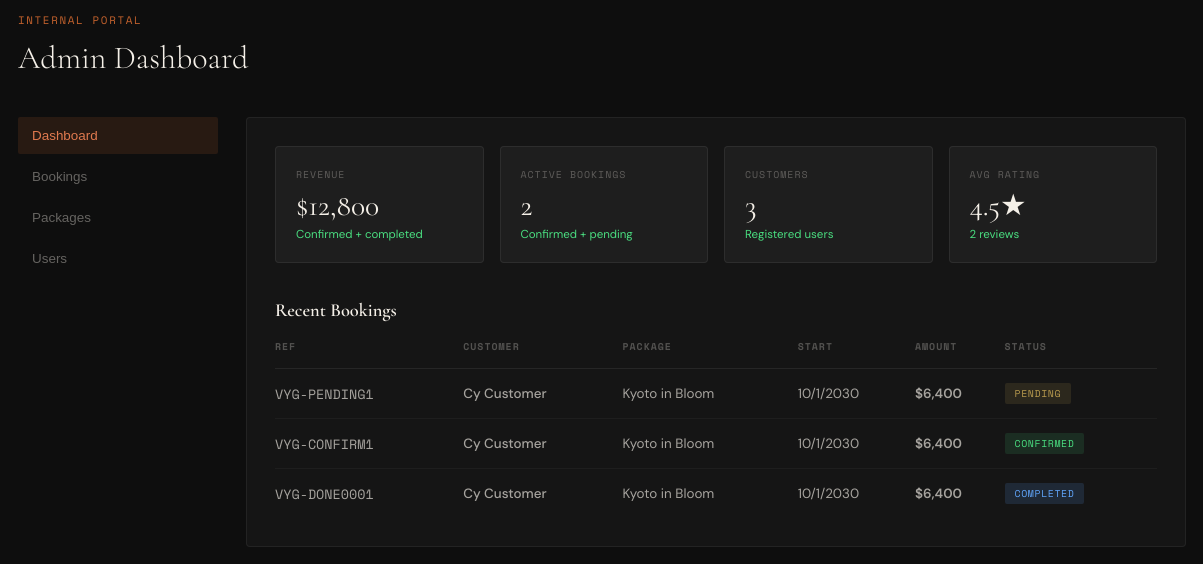
it: Admin › offers only the transitions the lifecycle allows
The image size is (1203, 564).
Click the button "Bookings": click(118, 176) [18,158,218,195]
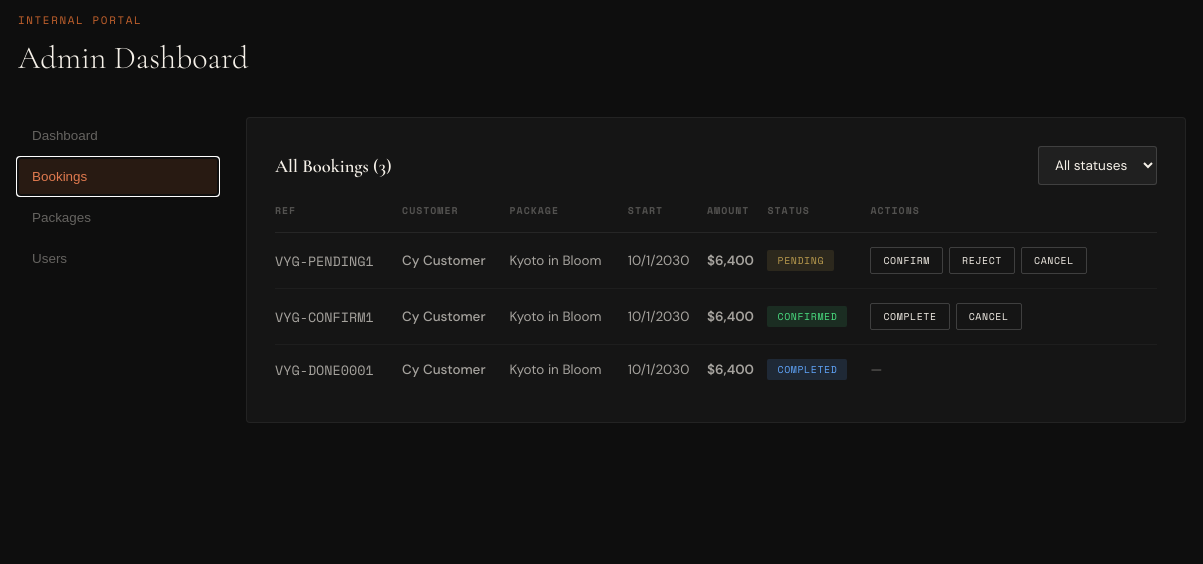
Expected: the button "Confirm" is shown, [870,247,943,274]
Expected: the button "Reject" is shown, [949,247,1015,274]
Expected: the button "Cancel" in the row of "VYG-PENDING1" is shown, [1021,247,1087,274]
